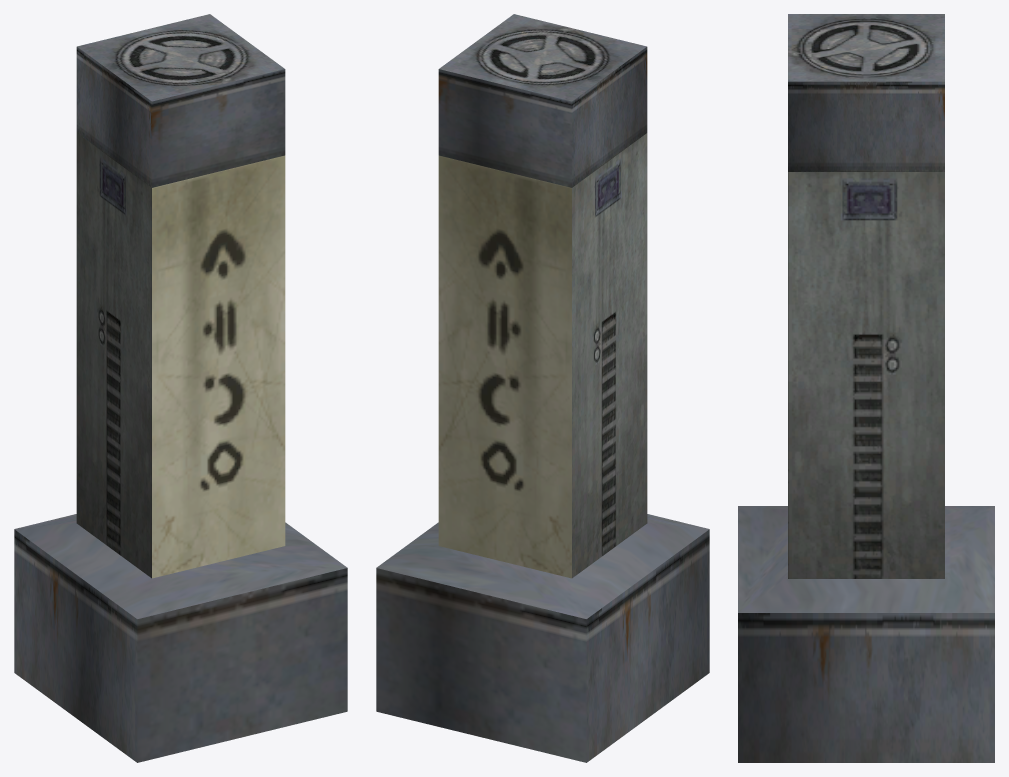
File: mun_all_sign_shop_s03_l3.fbx
The picture shows the model from 3 angles, left to right: view 1: azimuth 30°, elevation 25°; view 2: azimuth 150°, elevation 25°; view 3: azimuth 270°, elevation 25°; orthographic projection. The views are drawn at different scales.
Parts seen in each view (by area): view 1: mesh_node; view 2: mesh_node; view 3: mesh_node.
Boxes of the visible parts, x1,y1,x2,y2 form: mesh_node: [14, 14, 347, 762]; mesh_node: [376, 14, 709, 762]; mesh_node: [738, 14, 994, 762].
Bounding box in the file's own units: 0.5159 × 1.49 × 0.5229.
Materials: 2 (2 with a texture image).
